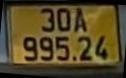.: (72, 56, 77, 61)
0: (57, 9, 71, 31)
2: (79, 36, 92, 60)
3: (40, 8, 55, 31)
4: (95, 36, 108, 60)
5: (56, 36, 70, 60)
9: (24, 37, 38, 61), (40, 37, 53, 61)
A: (75, 8, 87, 32)
